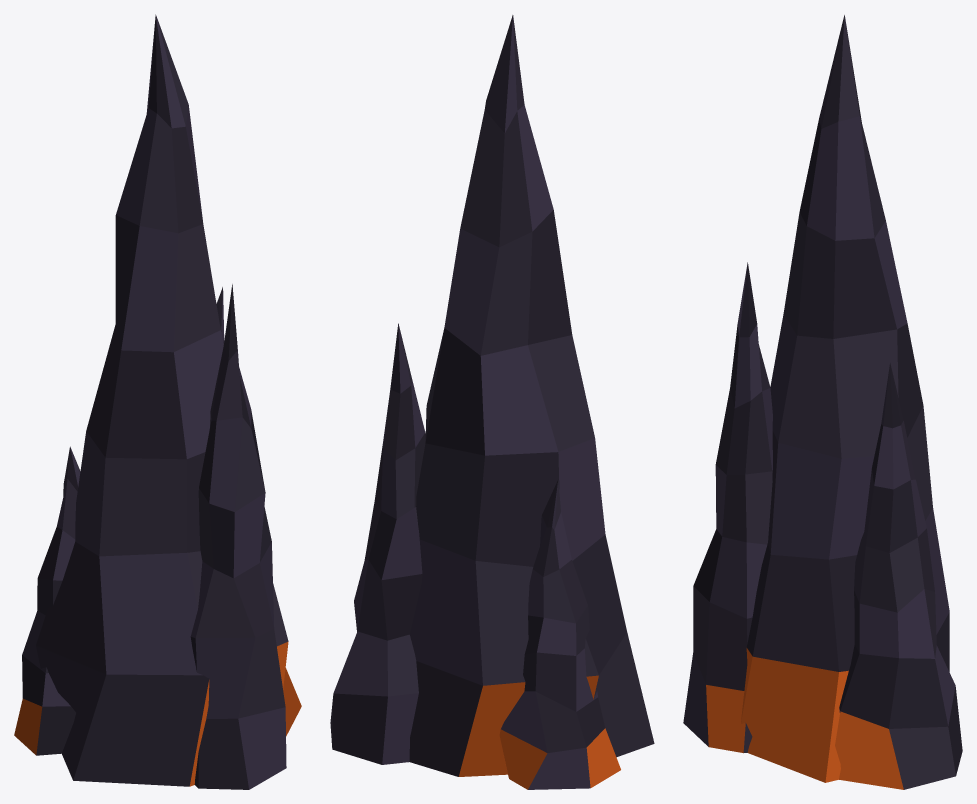
The model's file is rock_spire.glb.
The picture shows the model from 3 angles, left to right: view 1: azimuth 30°, elevation 25°; view 2: azimuth 150°, elevation 25°; view 3: azimuth 270°, elevation 25°; orthographic projection. The views are drawn at different scales.
Visible parts, largest first — view 1: Spire; view 2: Spire; view 3: Spire.
Part boxes in pixels (box(x1,y1,x2,y2)): Spire: box(14, 14, 301, 789); Spire: box(330, 15, 654, 789); Spire: box(683, 15, 962, 789).
Bounding box in the file's own units: 5.78 × 15 × 5.4.
